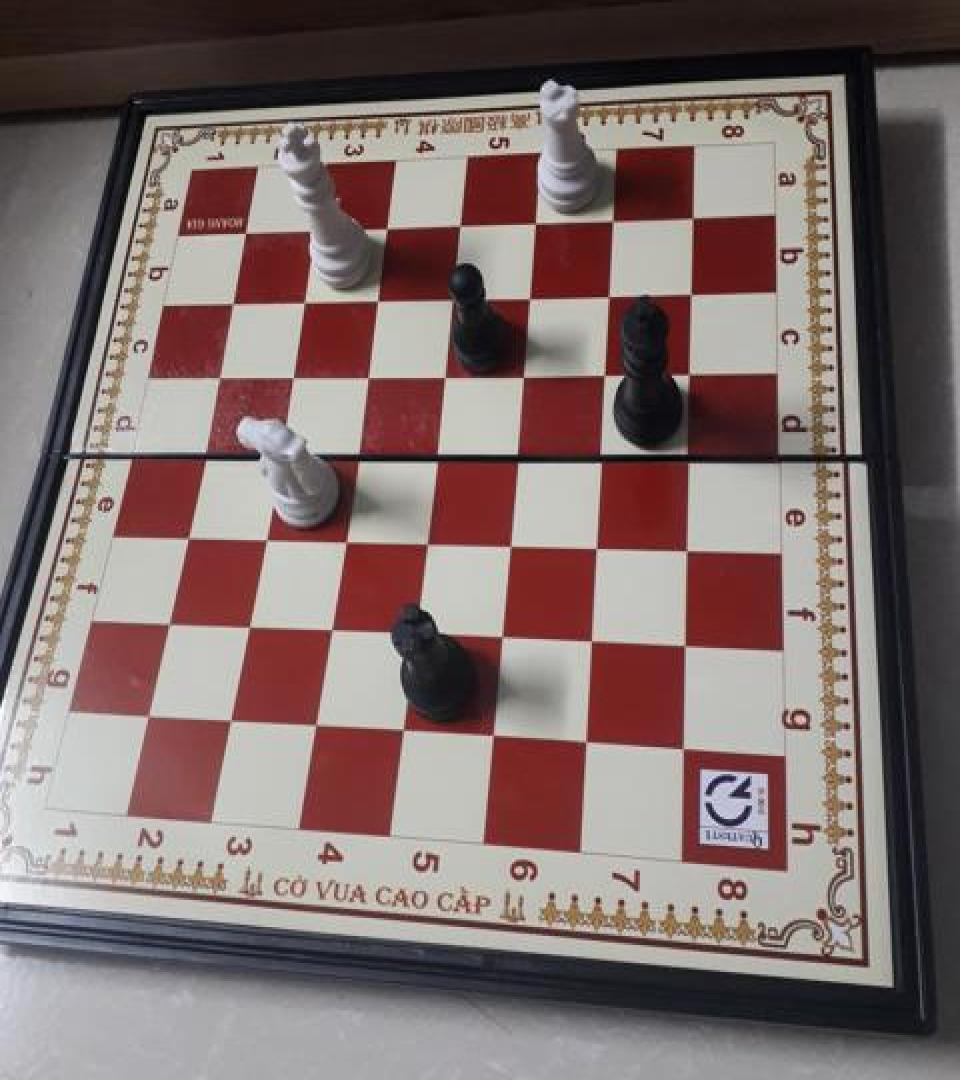xcorner: (676, 202, 706, 237), (596, 204, 626, 239), (518, 206, 548, 240), (443, 208, 473, 242), (369, 210, 399, 244), (298, 212, 328, 246), (228, 214, 258, 248), (675, 276, 705, 310), (592, 278, 622, 312), (512, 279, 542, 313), (435, 280, 465, 314), (359, 281, 389, 315), (286, 282, 316, 316), (673, 356, 703, 390), (589, 356, 619, 390), (506, 356, 536, 390), (426, 356, 456, 390), (349, 356, 379, 390), (273, 356, 303, 390), (200, 356, 230, 390), (672, 441, 702, 475), (584, 440, 614, 474), (417, 438, 447, 472), (338, 436, 368, 470), (260, 435, 290, 469), (185, 434, 215, 468), (671, 532, 701, 566), (580, 528, 610, 562), (493, 526, 523, 560), (408, 523, 438, 557), (326, 521, 356, 555), (246, 518, 276, 552), (168, 516, 198, 550), (669, 629, 699, 663), (576, 624, 606, 658), (485, 620, 515, 654), (398, 615, 428, 649), (313, 611, 343, 645), (231, 608, 261, 642), (151, 603, 181, 637), (667, 732, 697, 766), (571, 726, 601, 760), (477, 720, 507, 754), (387, 713, 417, 747), (215, 702, 245, 736), (133, 696, 163, 730), (215, 284, 245, 317), (500, 439, 530, 472), (299, 708, 329, 741)
